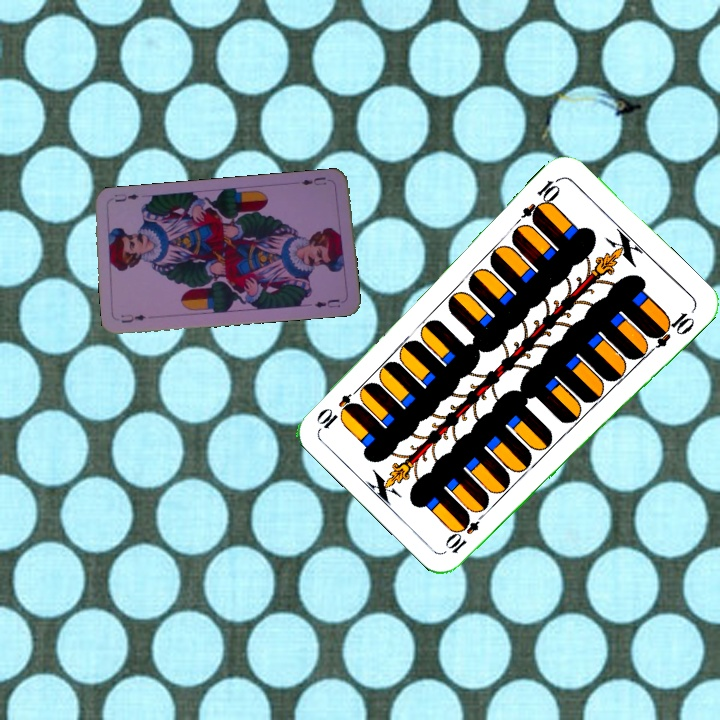E10: (442, 505, 490, 557), (518, 173, 564, 225)
EU: (117, 310, 148, 326), (297, 173, 329, 188)
